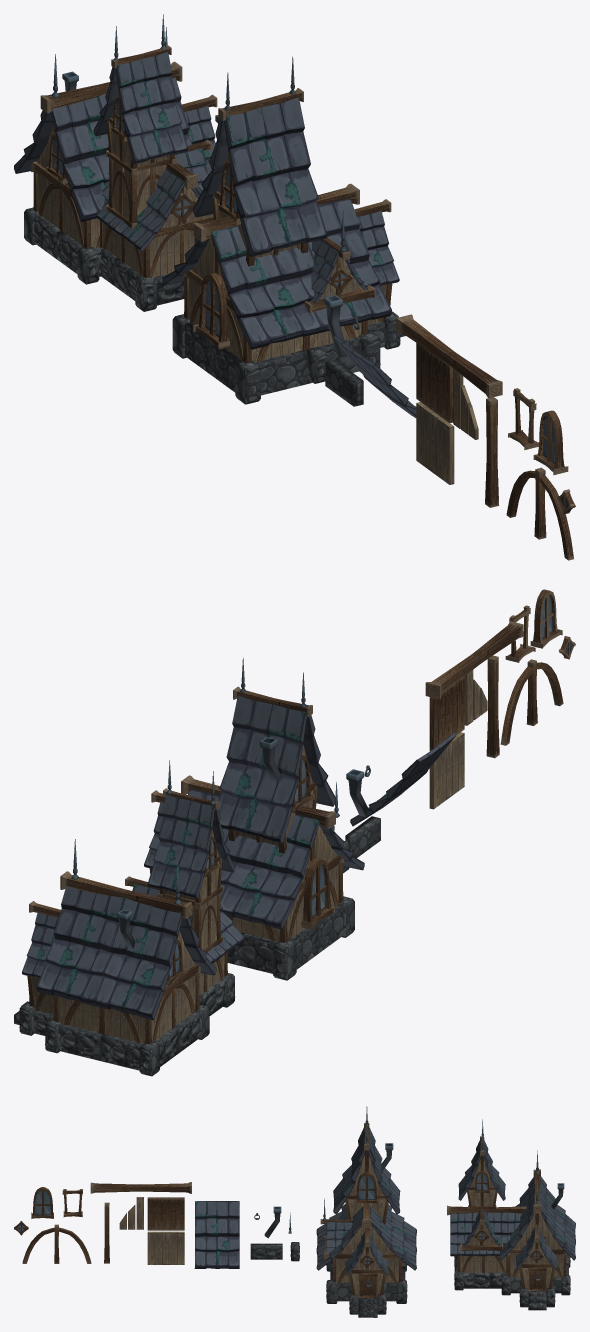
Rendered from Modular_Environment.fbx.
The picture shows the model from 3 angles, top to bottom: view 1: azimuth 30°, elevation 25°; view 2: azimuth 150°, elevation 25°; view 3: azimuth 270°, elevation 25°; orthographic projection. The views are drawn at different scales.
Visible parts, largest first — view 1: obj_house_1, obj_house_2, obj_wooden_wall_light, obj_wooden_wall_dark, obj_horizontal_beam, obj_roof, obj_vertical_beam, obj_plank_arc, obj_rock_wall_large, obj_chimney, obj_window.002, obj_plank_arc.001 (+1 smaller); view 2: obj_house_2, obj_house_1, obj_wooden_wall_light, obj_horizontal_beam, obj_wooden_wall_dark, obj_roof, obj_plank_arc, obj_vertical_beam, obj_rock_wall_large, obj_window.002, obj_chimney; view 3: obj_house_2, obj_house_1, obj_roof, obj_wooden_wall_dark, obj_wooden_wall_light, obj_horizontal_beam, obj_rock_wall_large, obj_plank_arc, obj_vertical_beam, obj_window_pane.
Boxes of the visible parts, <box> form: obj_house_1: <box>162,56,405,404</box>; obj_house_2: <box>14,14,217,311</box>; obj_wooden_wall_light: <box>416,402,454,484</box>; obj_wooden_wall_dark: <box>416,343,453,423</box>; obj_horizontal_beam: <box>396,314,502,398</box>; obj_roof: <box>332,334,416,417</box>; obj_vertical_beam: <box>485,397,499,507</box>; obj_plank_arc: <box>506,470,573,560</box>; obj_rock_wall_large: <box>325,359,363,406</box>; obj_chimney: <box>323,295,346,358</box>; obj_window.002: <box>538,410,564,468</box>; obj_plank_arc.001: <box>534,467,546,539</box>; obj_house_2: <box>14,760,245,1076</box>; obj_house_1: <box>144,657,364,980</box>; obj_wooden_wall_light: <box>429,732,464,809</box>; obj_horizontal_beam: <box>425,621,523,699</box>; obj_wooden_wall_dark: <box>429,677,464,750</box>; obj_roof: <box>350,733,456,826</box>; obj_plank_arc: <box>500,662,563,745</box>; obj_vertical_beam: <box>486,655,499,758</box>; obj_rock_wall_large: <box>345,816,380,858</box>; obj_window.002: <box>533,589,557,642</box>; obj_chimney: <box>346,769,369,816</box>; obj_house_2: <box>447,1119,575,1310</box>; obj_house_1: <box>316,1106,416,1317</box>; obj_roof: <box>194,1201,239,1268</box>; obj_wooden_wall_dark: <box>147,1197,184,1230</box>; obj_wooden_wall_light: <box>147,1231,184,1264</box>; obj_horizontal_beam: <box>90,1182,191,1193</box>; obj_rock_wall_large: <box>250,1243,282,1259</box>; obj_plank_arc: <box>22,1227,91,1263</box>; obj_vertical_beam: <box>104,1202,109,1263</box>; obj_window_pane: <box>35,1191,51,1215</box>.
Size of the model in its own units: 1755 by 2510 by 7627.
Materials: 5 (5 with a texture image).
